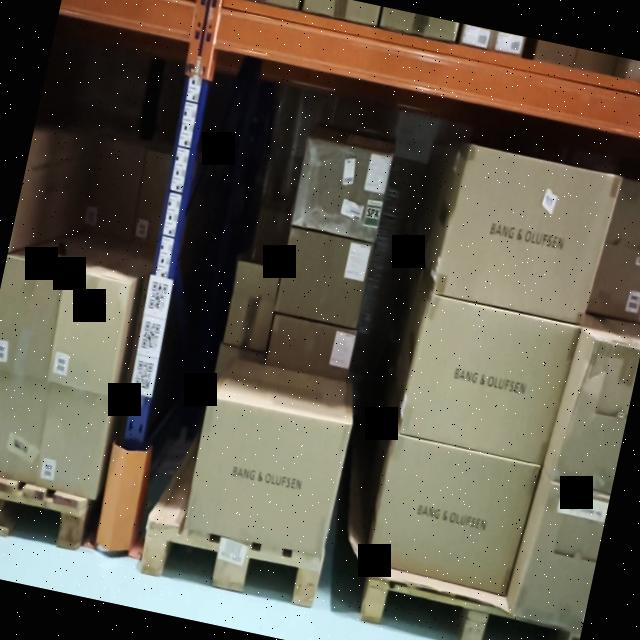box: (442, 146, 612, 322), (400, 296, 570, 461), (184, 394, 352, 556), (368, 438, 532, 590), (513, 482, 610, 632), (551, 338, 640, 495), (290, 140, 392, 240), (47, 272, 132, 392), (275, 228, 372, 328), (34, 388, 115, 497), (0, 256, 63, 379), (82, 139, 145, 238), (265, 316, 356, 378), (0, 372, 52, 479), (131, 151, 172, 248), (224, 293, 276, 349)
